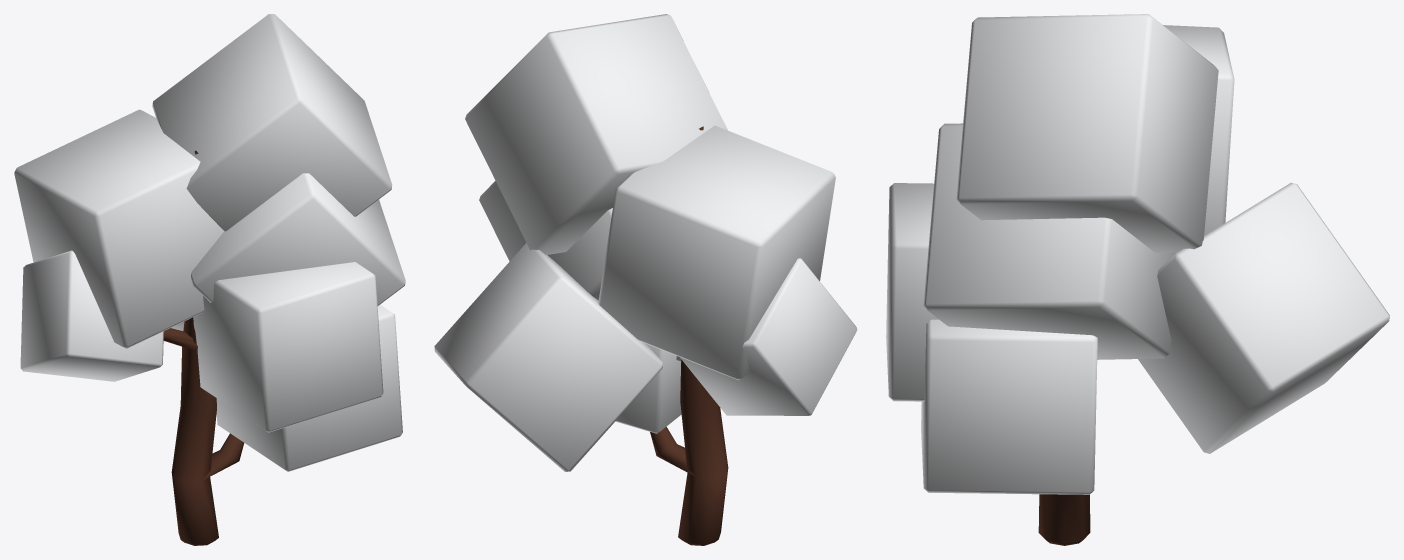
File: tree-b3.glb
The picture shows the model from 3 angles, left to right: view 1: azimuth 30°, elevation 25°; view 2: azimuth 150°, elevation 25°; view 3: azimuth 270°, elevation 25°; orthographic projection. The views are drawn at different scales.
Parts seen in each view (by area): view 1: tree-32.col; view 2: tree-32.col; view 3: tree-32.col.
Boxes of the visible parts, x1,y1,x2,y2 form: tree-32.col: [14, 14, 405, 545]; tree-32.col: [434, 14, 857, 545]; tree-32.col: [886, 14, 1389, 545].
Size of the model in its own units: 1.09 by 1.48 by 1.15.
1 material, 1 textured.
